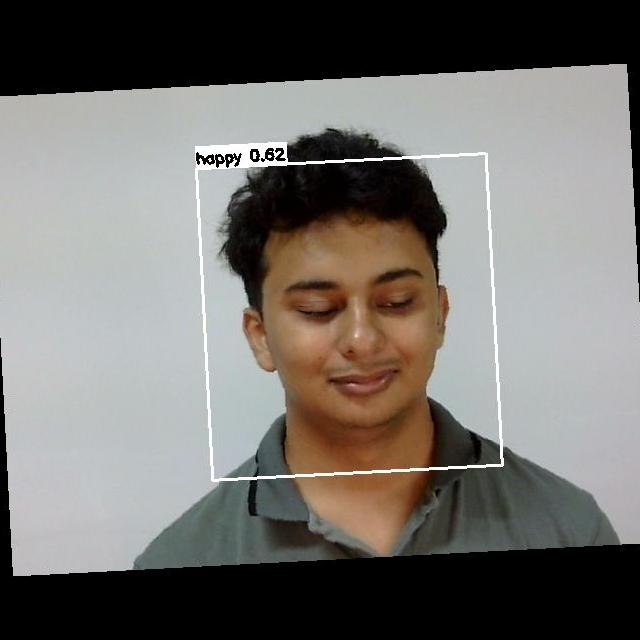Happy: (245, 251, 460, 411)
